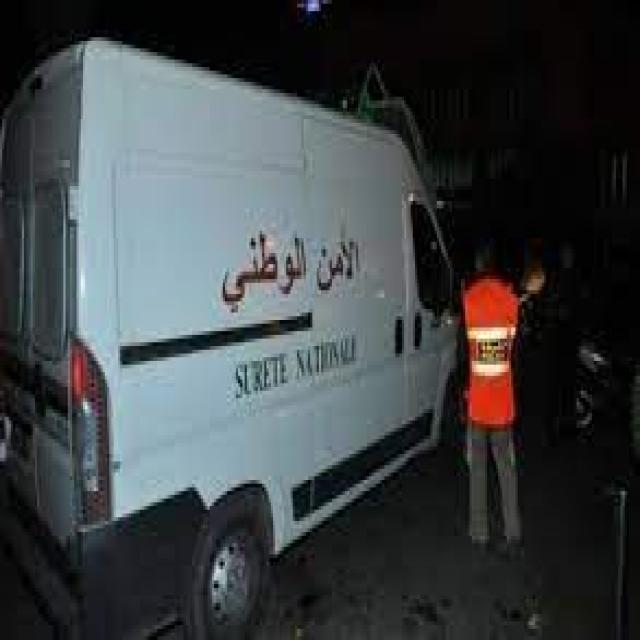police: (9, 37, 461, 640)
